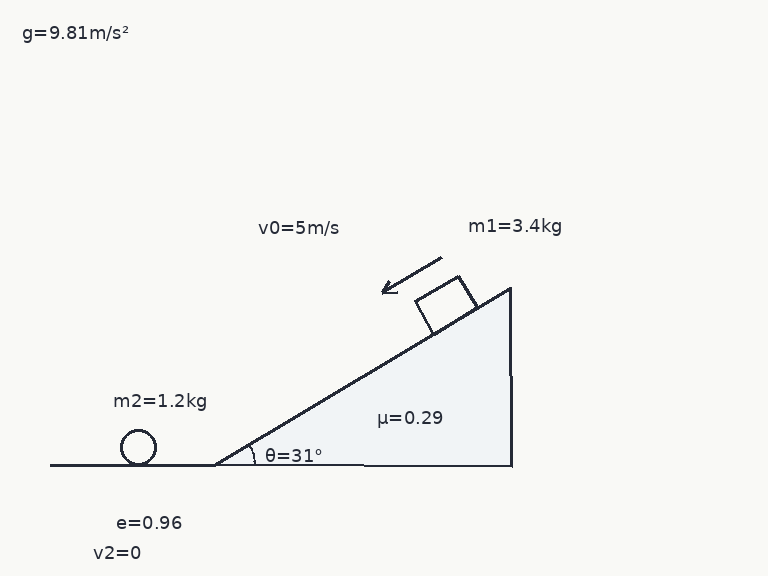ball: (118, 427, 158, 467)
block: (412, 273, 479, 336)
ramp: (213, 286, 512, 467)
